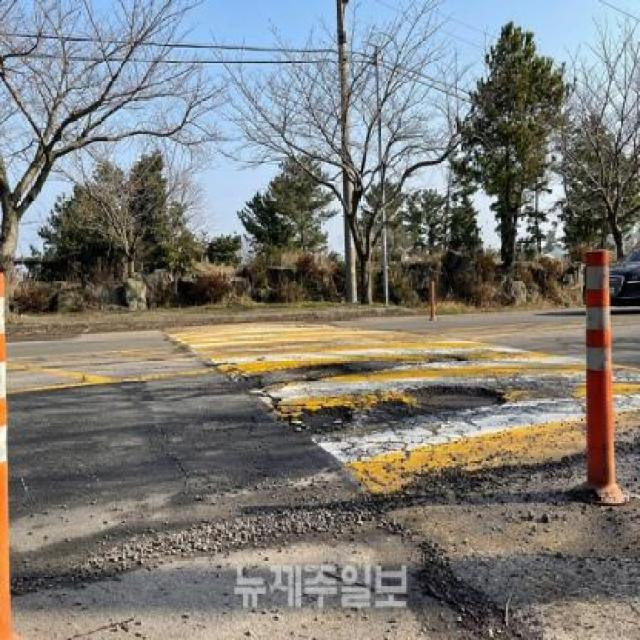Buraco: (402, 384, 512, 412), (293, 403, 358, 436)
